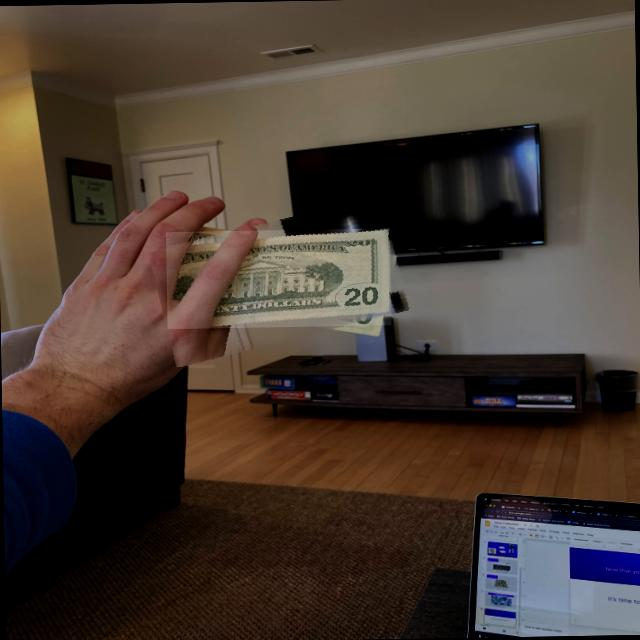twenty: (161, 229, 395, 329)
